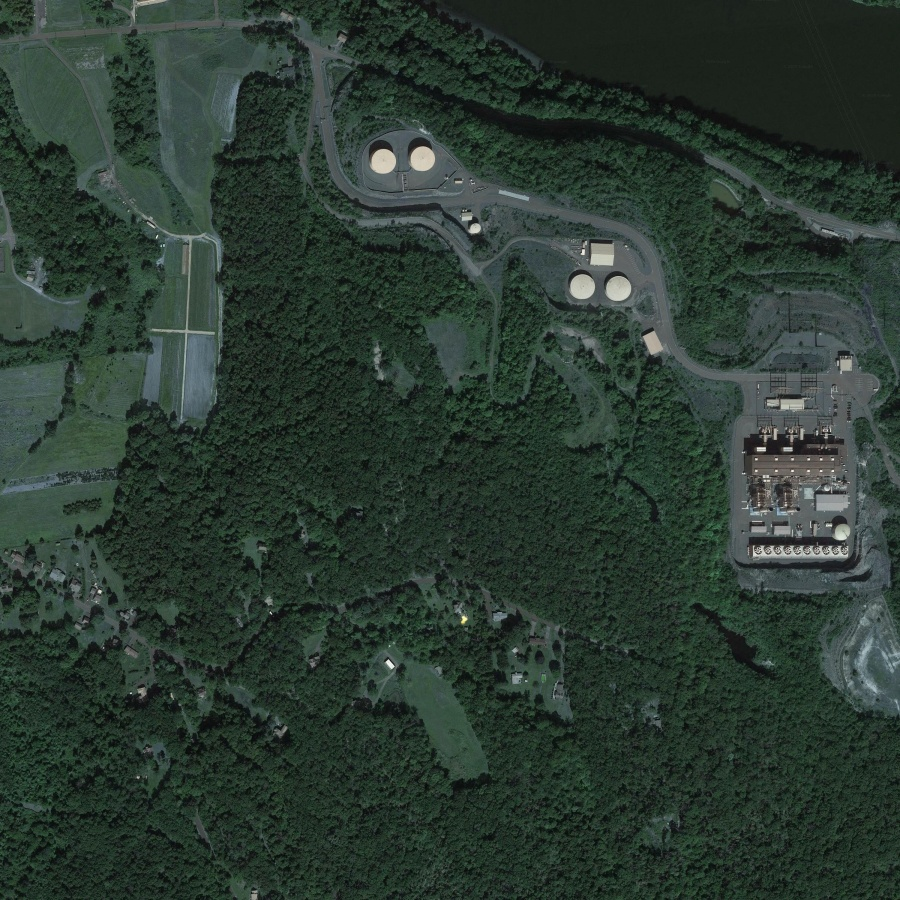PowerPlant: (735, 335, 881, 575)
